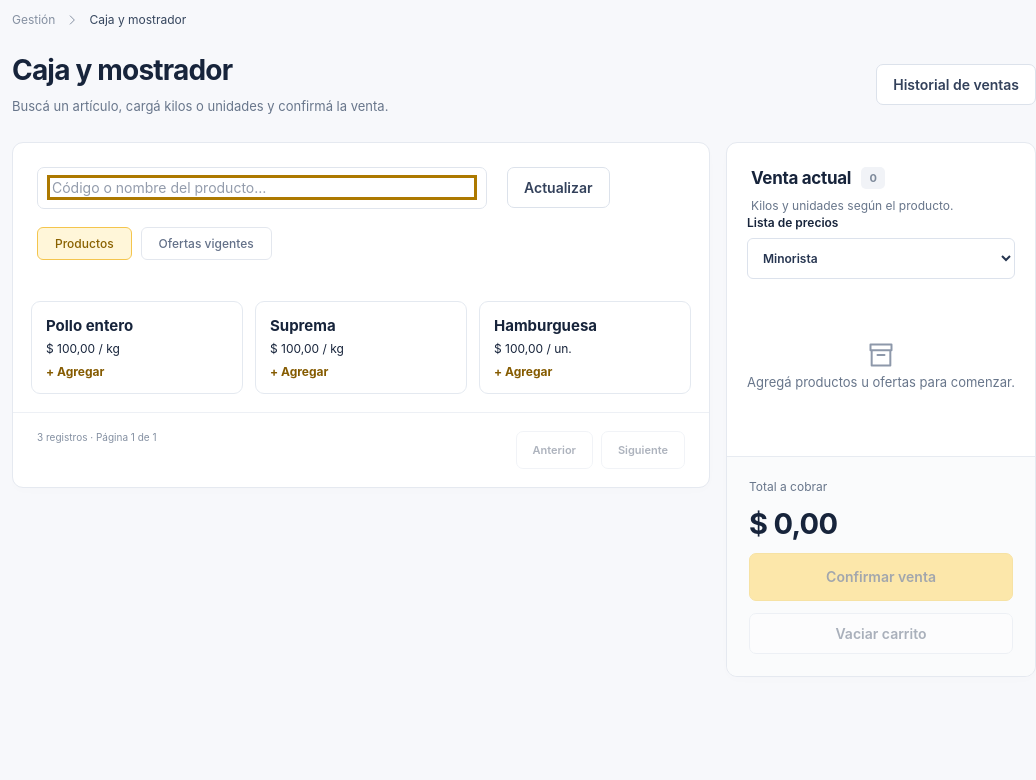
Caja integrada › una cantidad inválida invalida la cotización anterior y bloquea el cobro
Click the button "Hamburguesa $ 100,00 / un. + Agregar" at [585, 347], box 479,301 -> 691,394
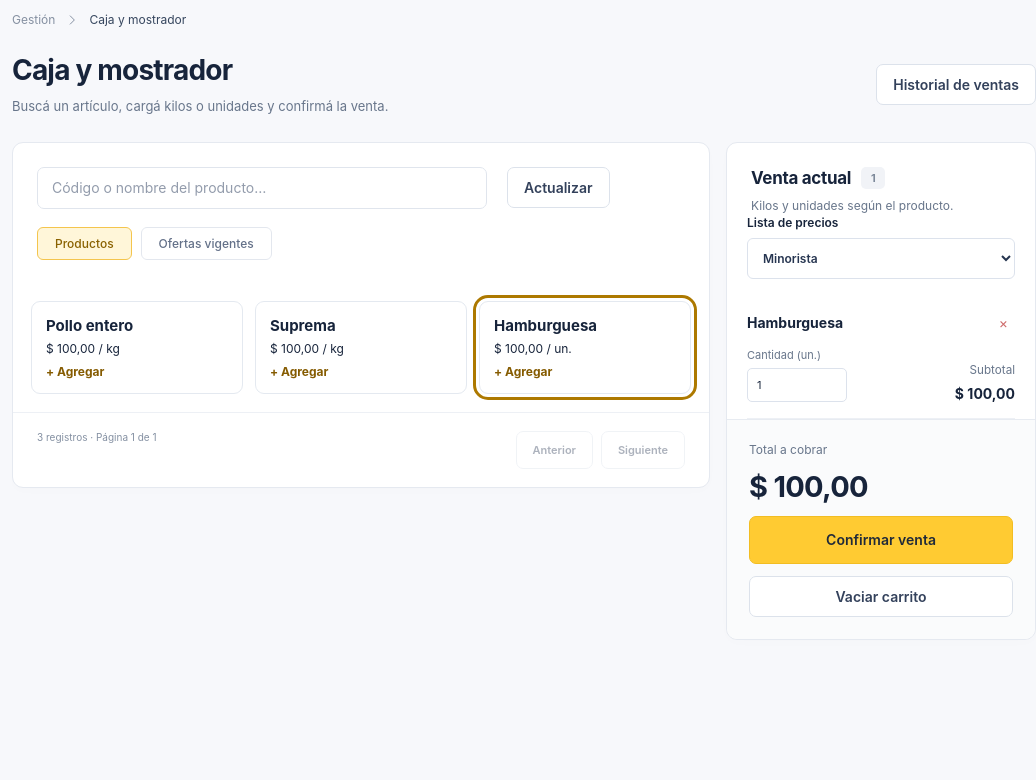
Check: the button "Confirmar venta" is enabled, box 749,516 -> 1013,564
Replace the text in the field named "Cantidad de Hamburguesa" with "1,5" at [797, 385], box 747,368 -> 847,402
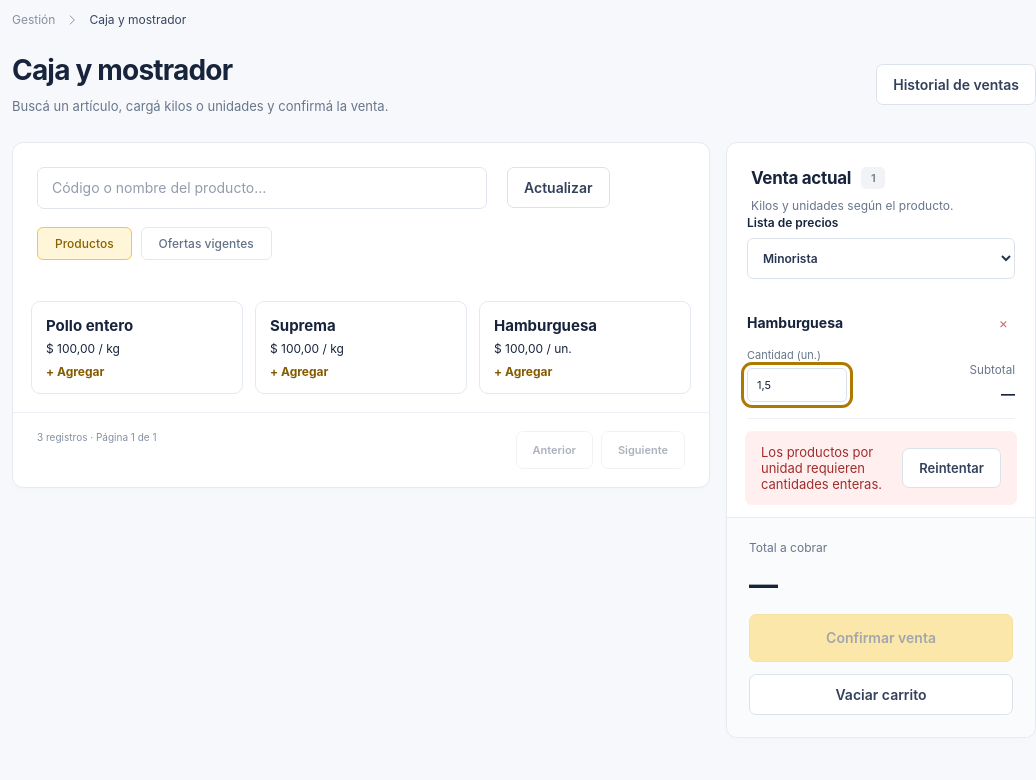
Check: the button "Confirmar venta" is disabled, box 749,614 -> 1013,662
Check: the text "Los productos por unidad requieren cantidades enteras." is shown, box 761,444 -> 890,492
